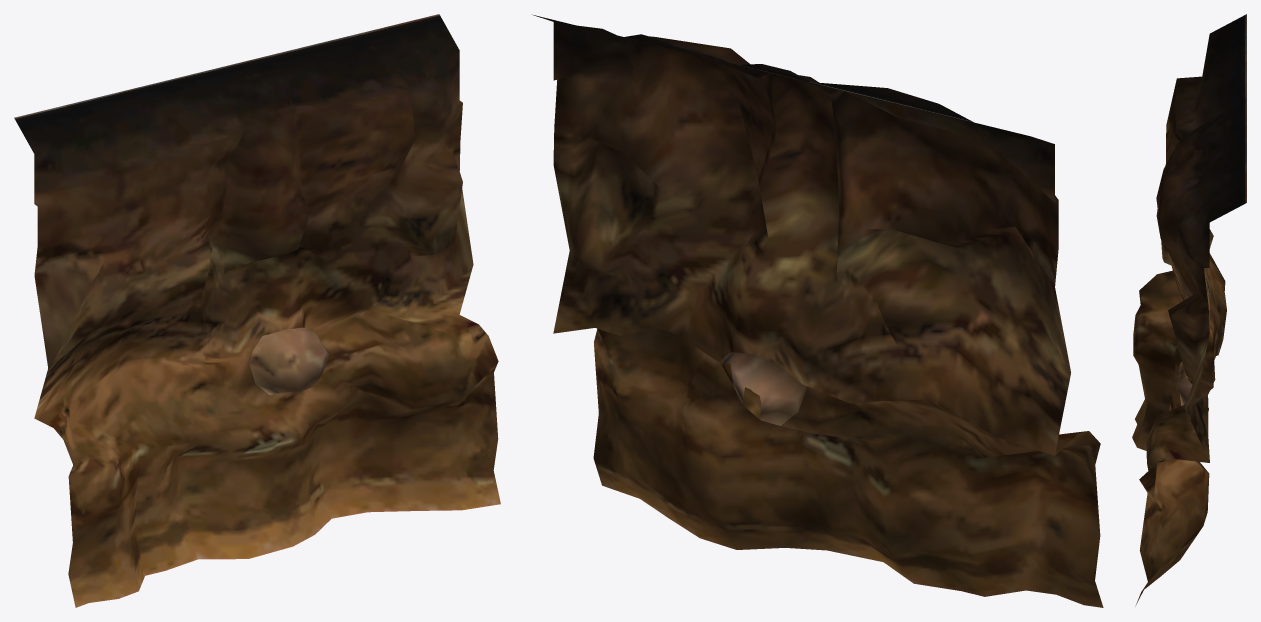
File: tunnelWallD.fbx
The picture shows the model from 3 angles, left to right: view 1: azimuth 30°, elevation 25°; view 2: azimuth 150°, elevation 25°; view 3: azimuth 270°, elevation 25°; orthographic projection. The views are drawn at different scales.
Visible parts, largest first — view 1: tunnelWallD; view 2: tunnelWallD; view 3: tunnelWallD.
Boxes of the visible parts, x1=… form: tunnelWallD: x1=14, y1=14, x2=500, y2=607; tunnelWallD: x1=532, y1=14, x2=1103, y2=607; tunnelWallD: x1=1132, y1=14, x2=1246, y2=605.
Size of the model in its own units: 300 by 300 by 77.12.
